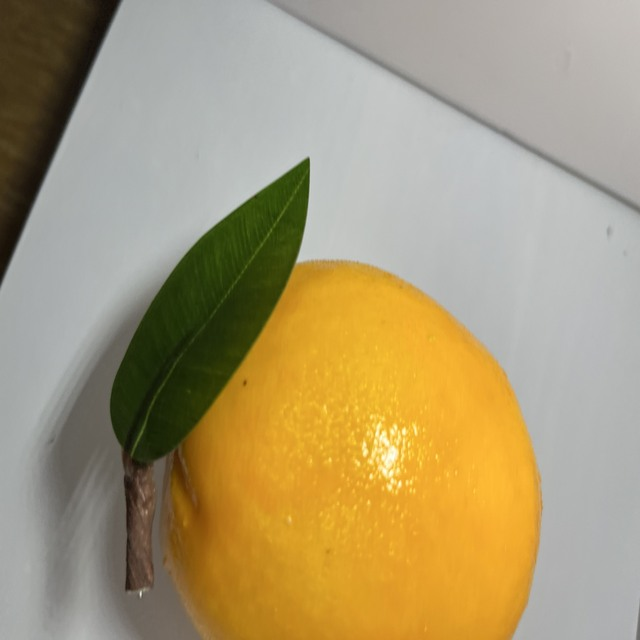Cam vang: (119, 255, 544, 640)
